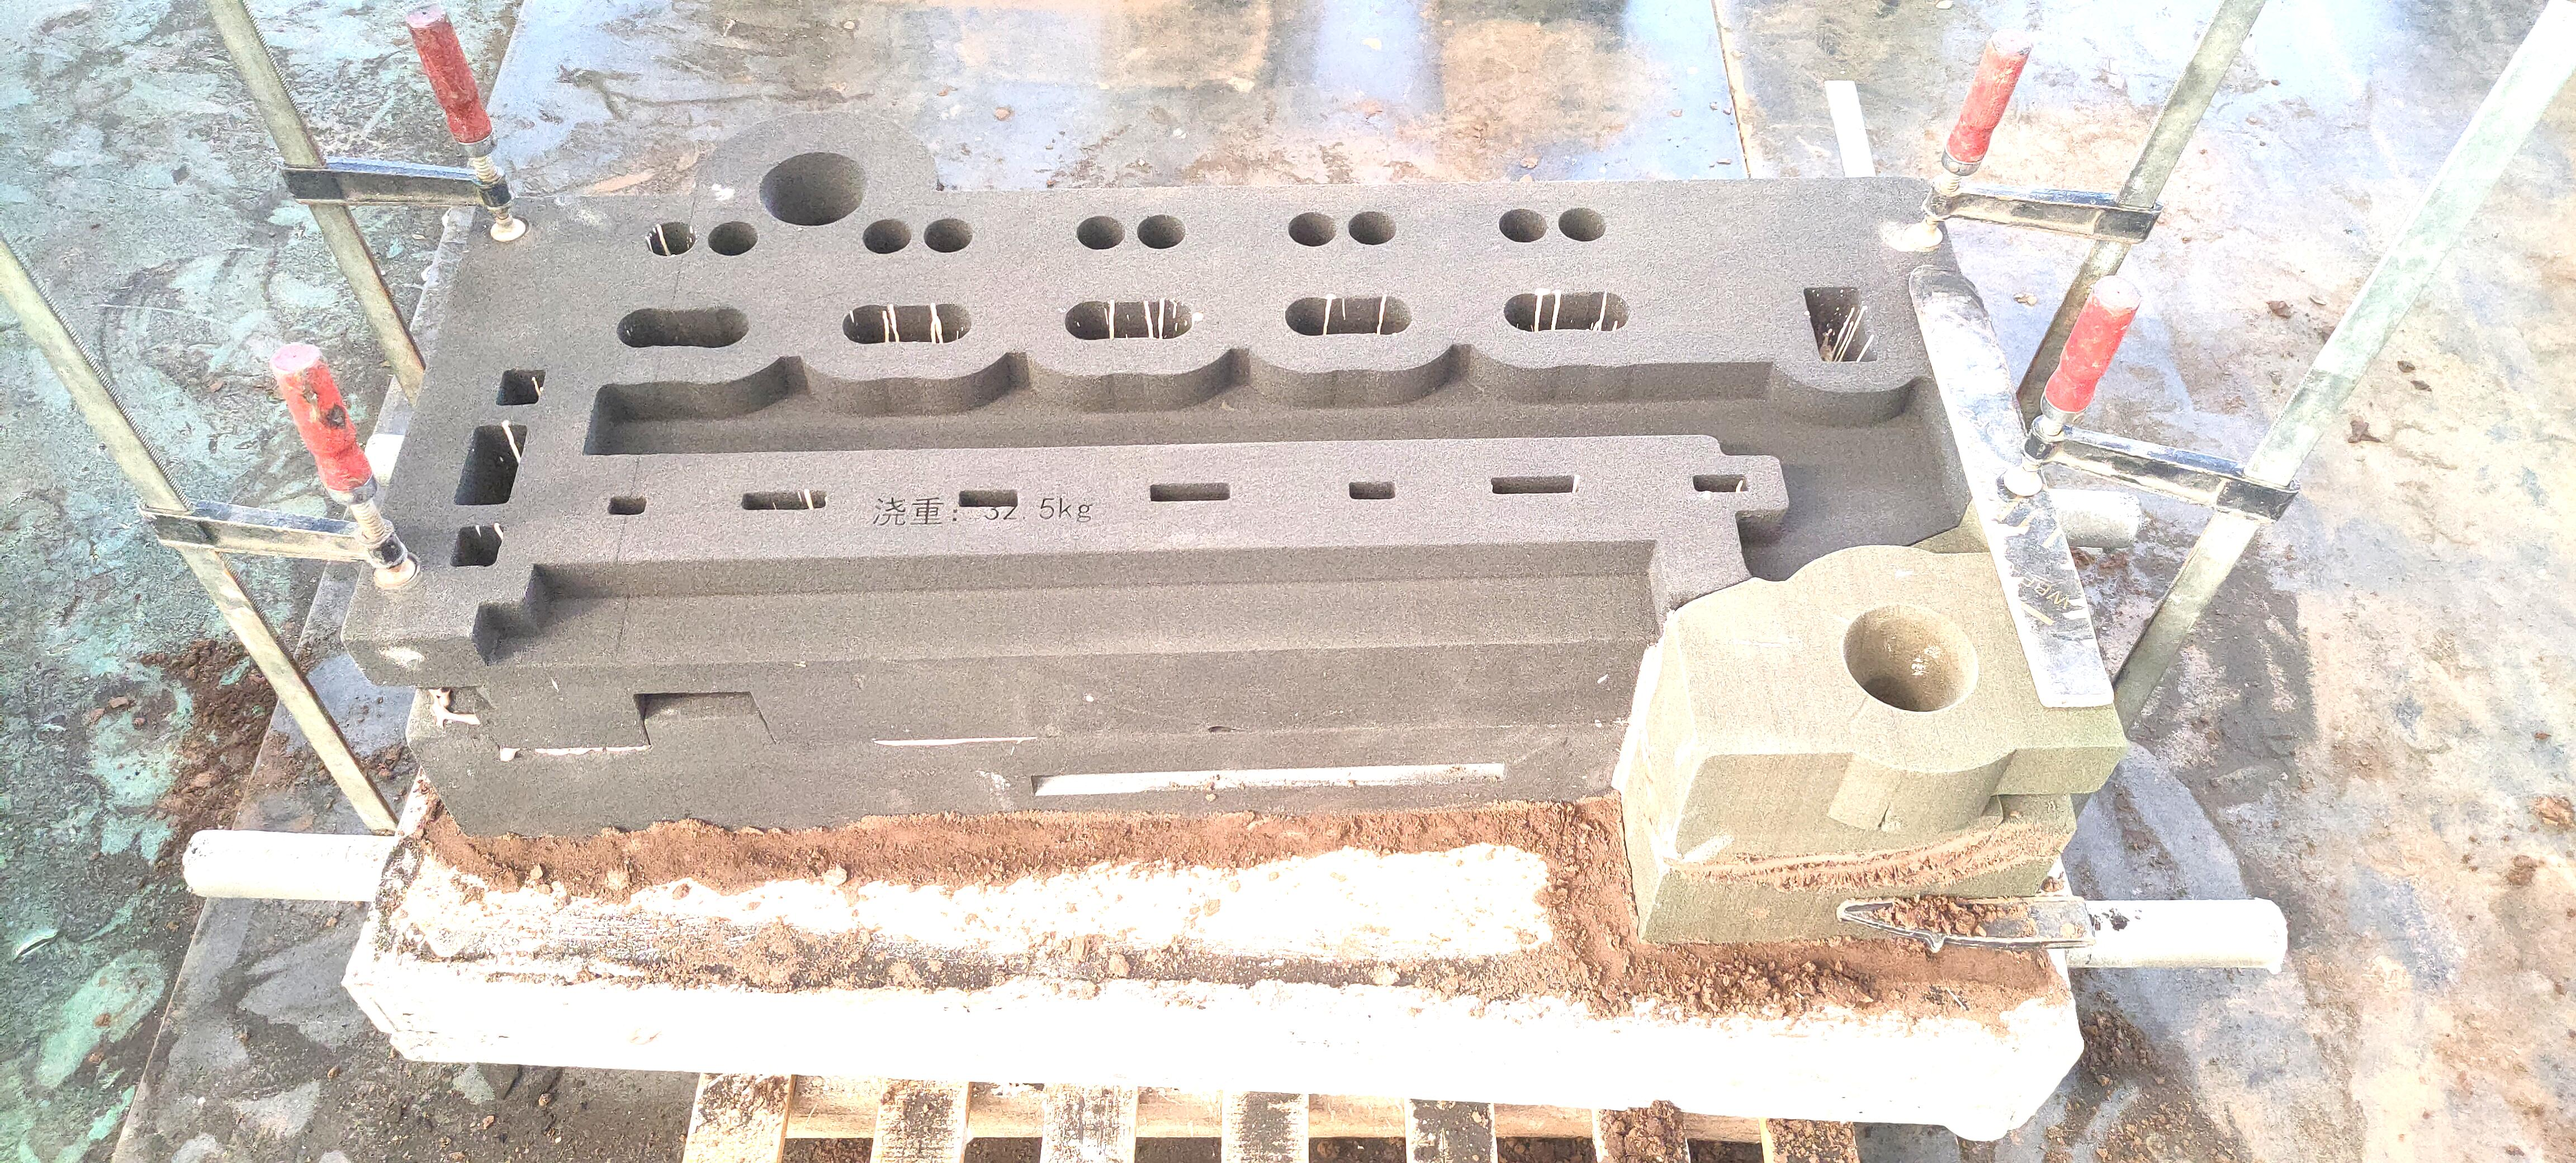pouring hole: (1845, 603, 1978, 713), (759, 153, 867, 227)
